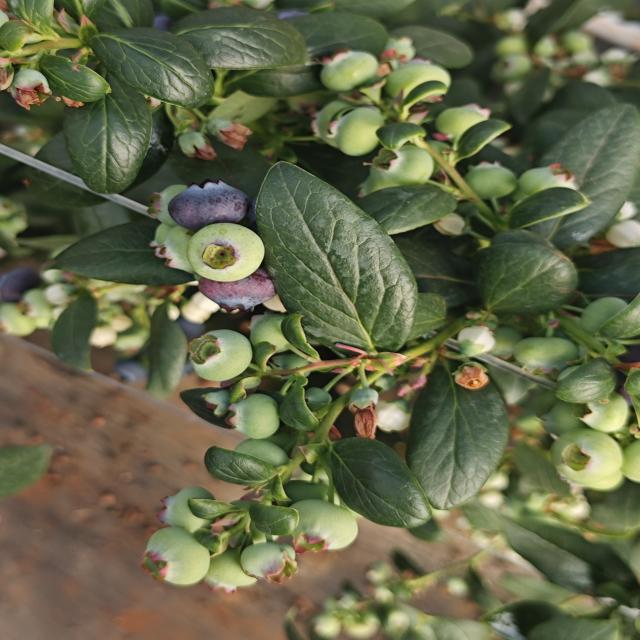ripe: (152, 182, 255, 220), (195, 272, 278, 314), (0, 260, 52, 309)
